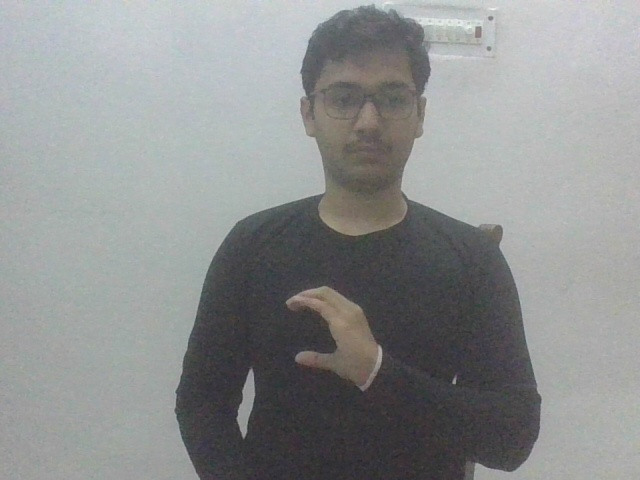C: (280, 281, 383, 392)
